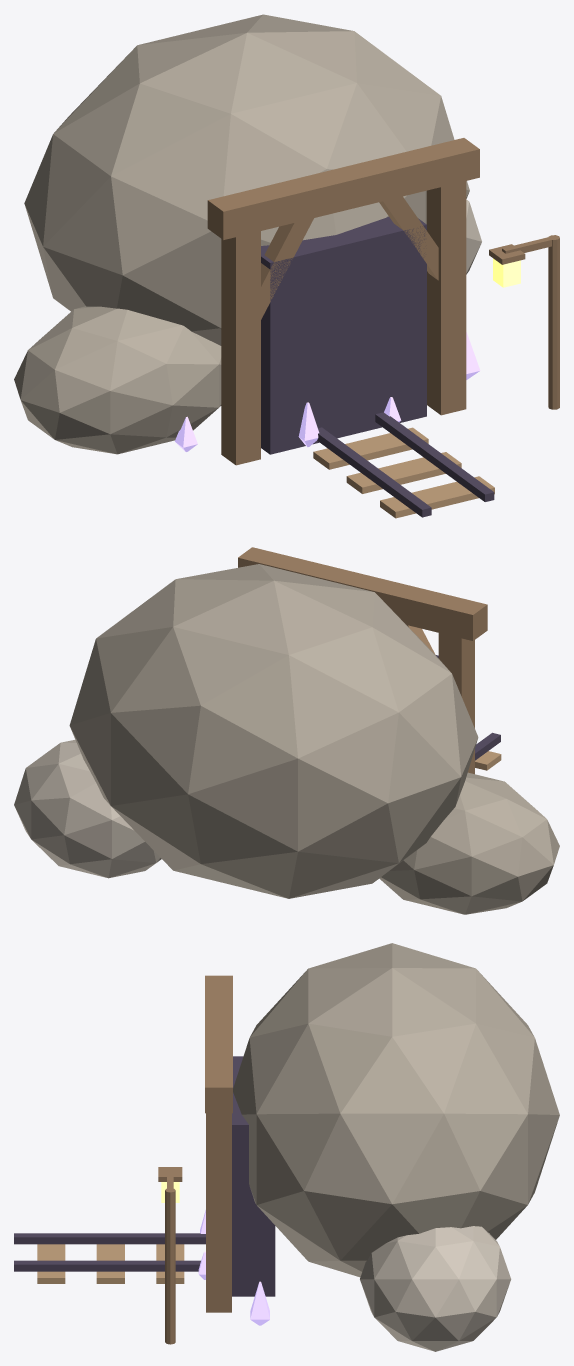
The model's file is darkmine.glb.
The picture shows the model from 3 angles, top to bottom: view 1: azimuth 30°, elevation 25°; view 2: azimuth 150°, elevation 25°; view 3: azimuth 270°, elevation 25°; orthographic projection. The views are drawn at different scales.
Parts seen in each view (by area): view 1: hill, mouth, rock_l, crossbeam, post_-1, post_1, lamp_post, brace_-1, rail_1, rail_-1, brace_1, sleeper_1 (+4 smaller); view 2: hill, rock_l, rock_r, crossbeam, post_-1; view 3: hill, rock_r, mouth, post_1, crossbeam, rail_-1, rail_1, lamp_post, sleeper_1, sleeper_2, sleeper_0, cry_out_1_top.
Boxes of the visible parts, left/top/right/bottom form: hill: left=24, top=14, right=469, bottom=345; mouth: left=261, top=216, right=426, bottom=454; rock_l: left=14, top=306, right=221, bottom=454; crossbeam: left=207, top=138, right=479, bottom=239; post_-1: left=221, top=231, right=260, bottom=465; post_1: left=426, top=181, right=466, bottom=415; lamp_post: left=548, top=235, right=559, bottom=409; brace_-1: left=261, top=218, right=313, bottom=319; rail_1: left=375, top=412, right=494, bottom=501; rail_-1: left=317, top=427, right=431, bottom=517; brace_1: left=379, top=196, right=438, bottom=280; sleeper_1: left=346, top=452, right=461, bottom=493; hill: left=69, top=564, right=478, bottom=898; rock_l: left=379, top=772, right=559, bottom=914; rock_r: left=14, top=740, right=161, bottom=878; crossbeam: left=238, top=547, right=487, bottom=640; post_-1: left=438, top=633, right=474, bottom=774; hill: left=233, top=943, right=559, bottom=1277; rock_r: left=360, top=1226, right=511, bottom=1351; mouth: left=232, top=1056, right=275, bottom=1296; post_1: left=206, top=1113, right=231, bottom=1312; crossbeam: left=205, top=975, right=232, bottom=1113; rail_-1: left=14, top=1233, right=205, bottom=1244; rail_1: left=14, top=1260, right=200, bottom=1271; lamp_post: left=165, top=1188, right=175, bottom=1344; sleeper_1: left=96, top=1244, right=124, bottom=1283; sleeper_2: left=37, top=1244, right=65, bottom=1283; sleeper_0: left=156, top=1244, right=184, bottom=1283; cry_out_1_top: left=250, top=1281, right=269, bottom=1319.
Bounding box in the file's own units: 4.71 × 3 × 4.82.
